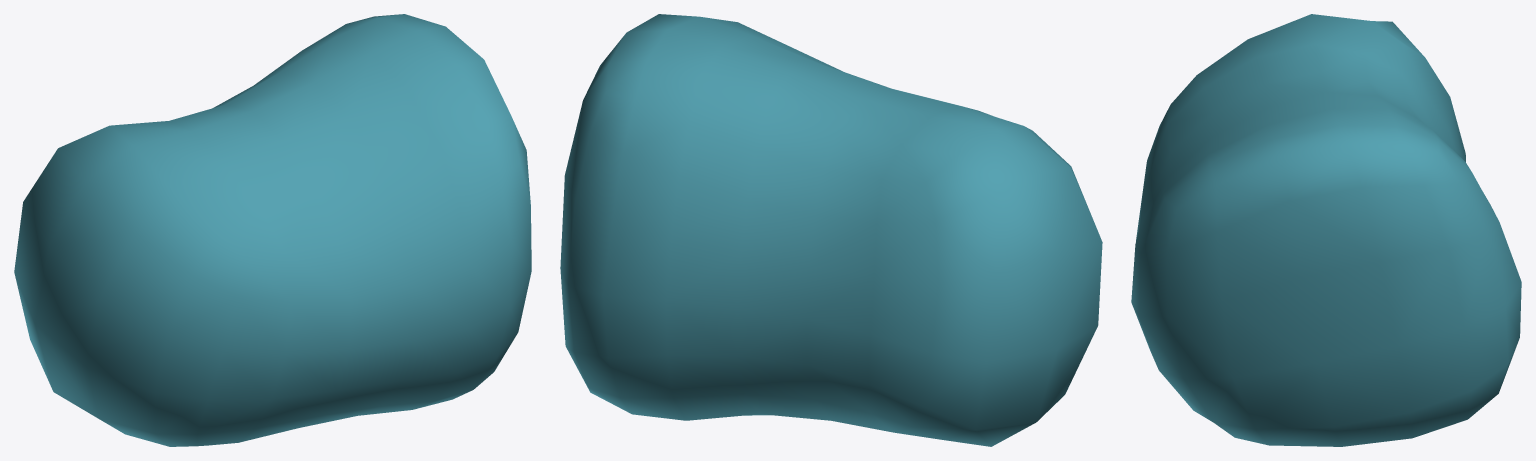
File: VIS_Alpha_Surface_038.dae
3 renders of one model, left to right at view 1: azimuth 30°, elevation 25°; view 2: azimuth 150°, elevation 25°; view 3: azimuth 270°, elevation 25°, orthographic. The views are drawn at different scales.
Parts seen in each view (by area): view 1: VIS_Alpha_Surface_038; view 2: VIS_Alpha_Surface_038; view 3: VIS_Alpha_Surface_038.
Part boxes in pixels (x1,y1,x2,y2): VIS_Alpha_Surface_038: [14, 14, 531, 446]; VIS_Alpha_Surface_038: [560, 14, 1102, 446]; VIS_Alpha_Surface_038: [1131, 14, 1521, 446].
Bounding box in the file's own units: 0.0365 × 0.0291 × 0.0267.
